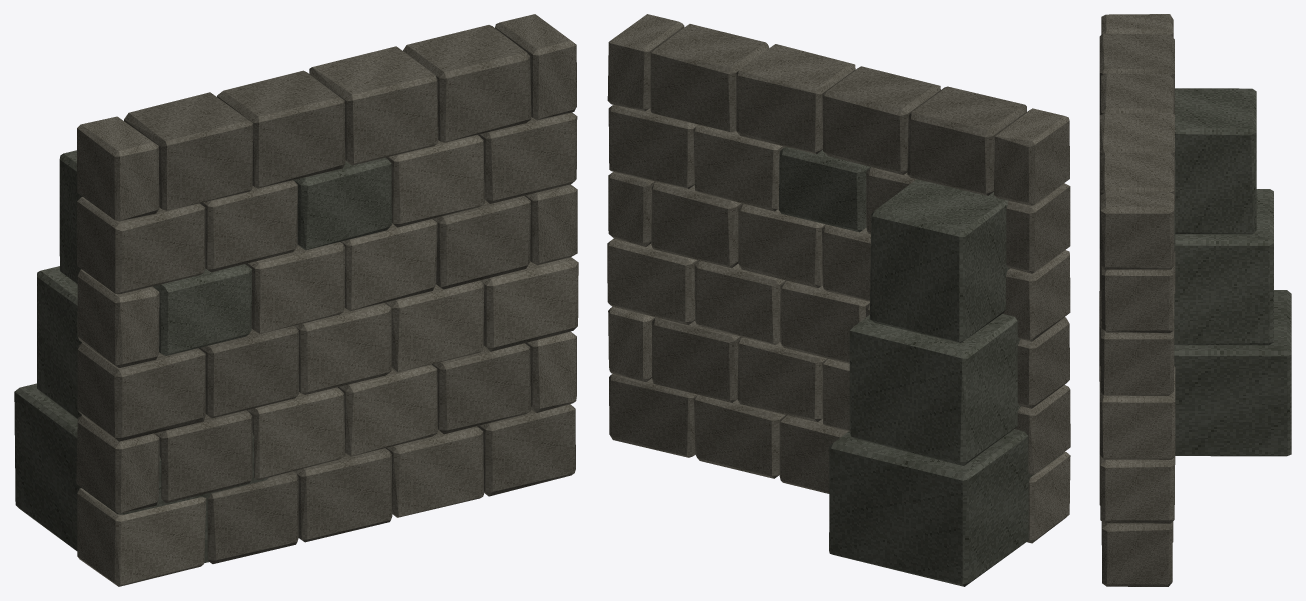
File: env_ruin_walls_10_buttressed.glb
3 renders of one model, left to right at view 1: azimuth 30°, elevation 25°; view 2: azimuth 150°, elevation 25°; view 3: azimuth 270°, elevation 25°, orthographic. The views are drawn at different scales.
Bounding box in the file's own units: 1.99 × 1.79 × 0.823.
Materials: 1 (1 with a texture image).
